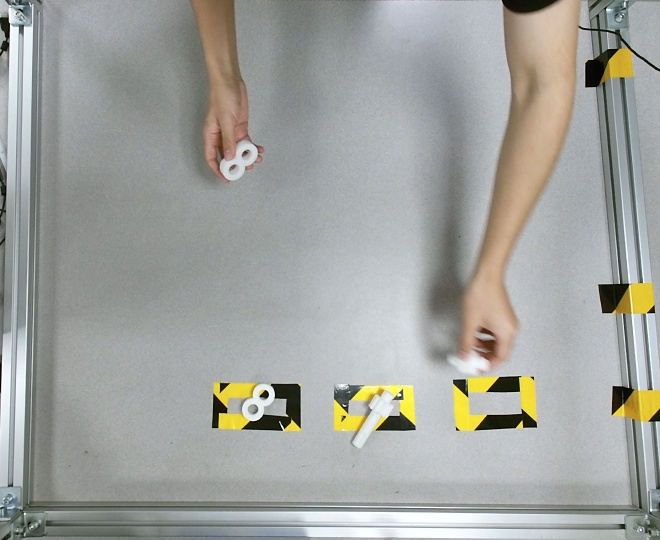stage_1: (220, 139, 258, 181)
